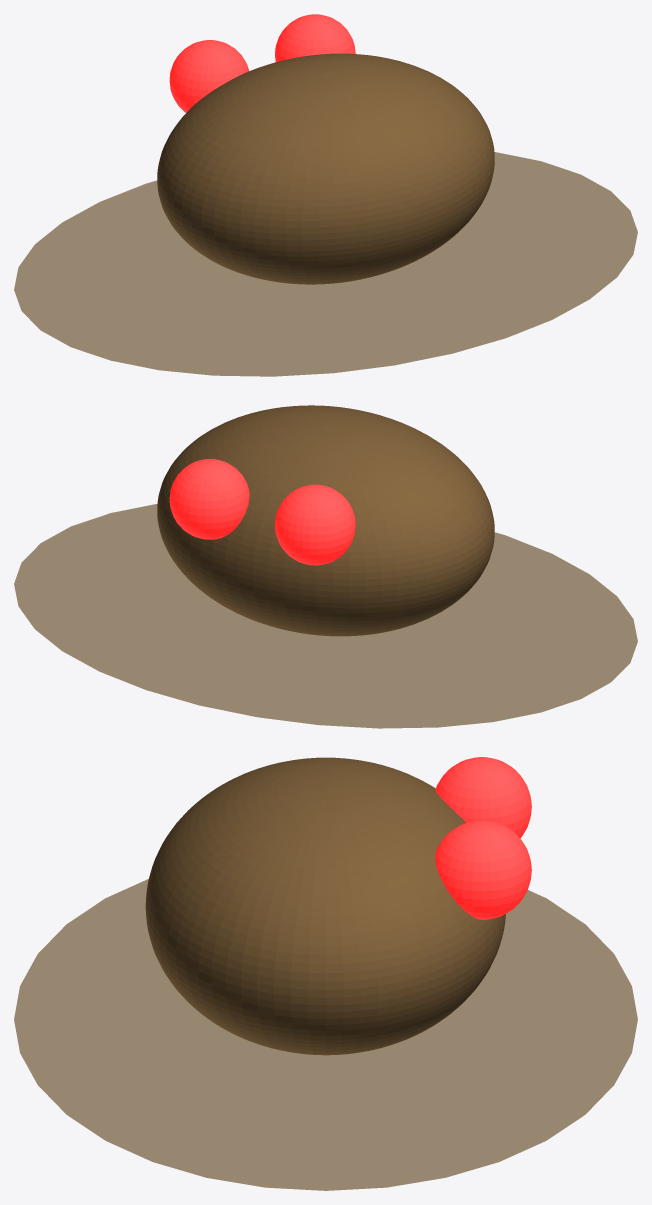
Rendered from PoopBlob.glb.
3 views of the same model, one above another, from view 1: azimuth 30°, elevation 25°; view 2: azimuth 150°, elevation 25°; view 3: azimuth 270°, elevation 25° (orthographic). The views are drawn at different scales.
Parts seen in each view (by area): view 1: PoopBlob_Puddle, PoopBlob_Body, PoopBlob_Eye_Left, PoopBlob_Eye_Right; view 2: PoopBlob_Puddle, PoopBlob_Body, PoopBlob_Eye_Left, PoopBlob_Eye_Right; view 3: PoopBlob_Puddle, PoopBlob_Body, PoopBlob_Eye_Right, PoopBlob_Eye_Left.
Boxes of the visible parts, x1,y1,x2,y2 form: PoopBlob_Puddle: (14, 152, 637, 376); PoopBlob_Body: (157, 53, 494, 284); PoopBlob_Eye_Left: (169, 40, 249, 112); PoopBlob_Eye_Right: (275, 14, 355, 61); PoopBlob_Puddle: (14, 503, 637, 728); PoopBlob_Body: (157, 405, 494, 636); PoopBlob_Eye_Left: (275, 484, 355, 565); PoopBlob_Eye_Right: (169, 459, 249, 539); PoopBlob_Puddle: (14, 879, 637, 1190); PoopBlob_Body: (145, 757, 505, 1055); PoopBlob_Eye_Right: (435, 820, 531, 919); PoopBlob_Eye_Left: (435, 757, 531, 838).
Bounding box in the file's own units: 1.3 × 0.4168 × 1.
